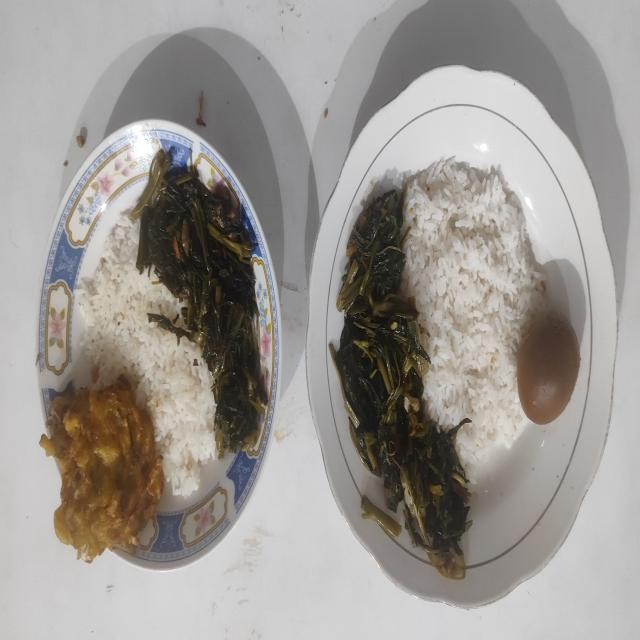nasi_putih: (401, 160, 545, 478), (80, 216, 218, 499)
tumis_kangkung: (328, 186, 472, 579), (131, 146, 271, 458)
